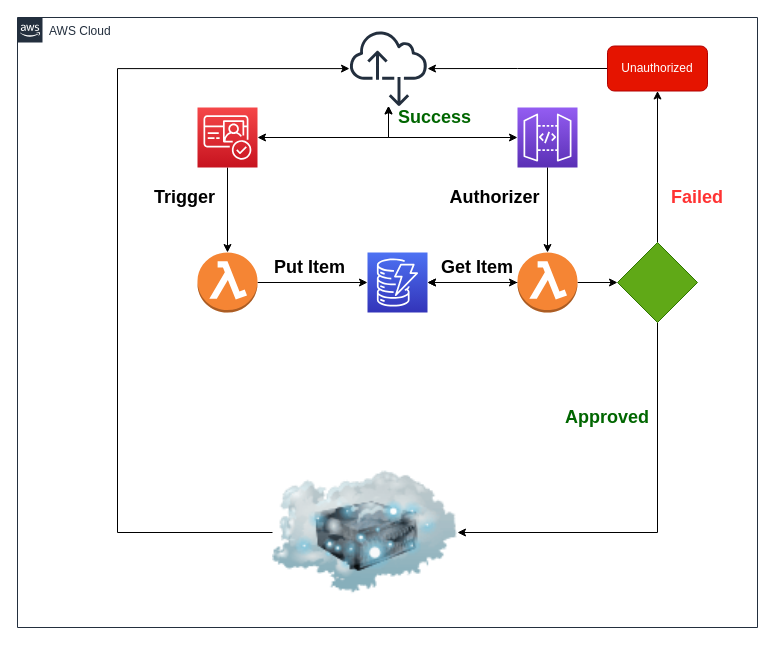
This 775x655 diagram has some shape labels left out. Here are the shapes that lost their labels. From the top down, the centre of each, then its label:
At pixel 657 282: "Check".
At pixel 364 532: "Application".
